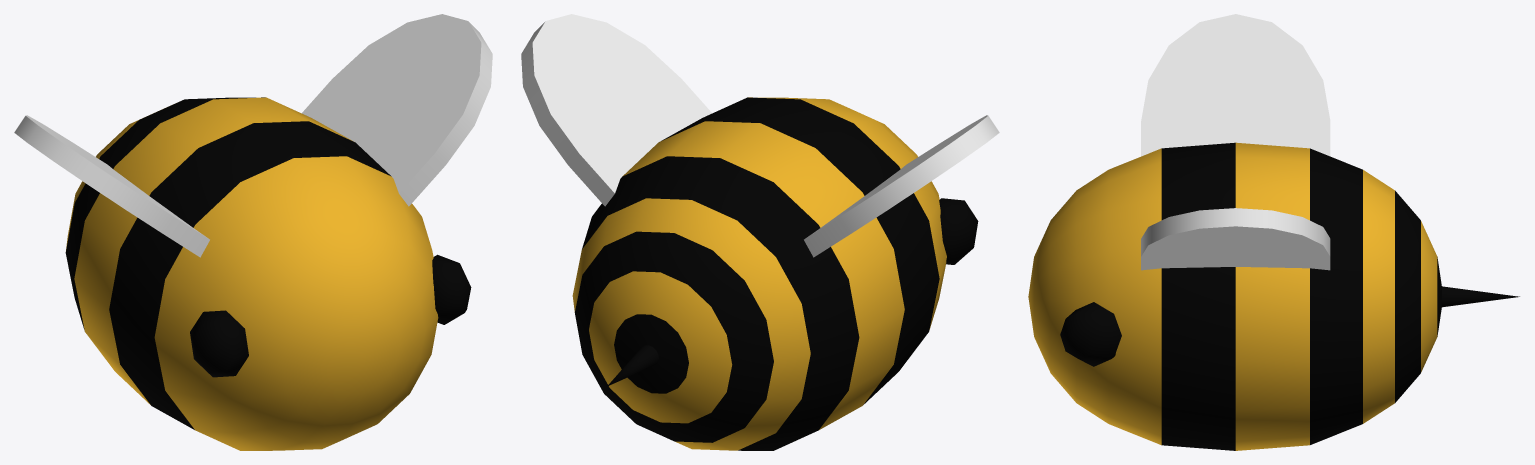
The model's file is BeeModel.fbx.
3 renders of one model, left to right at view 1: azimuth 30°, elevation 25°; view 2: azimuth 150°, elevation 25°; view 3: azimuth 270°, elevation 25°, orthographic. The views are drawn at different scales.
Visible parts, largest first — view 1: BumbleBod, WingL, WingR; view 2: BumbleBod, WingL, WingR; view 3: BumbleBod, WingR, WingL.
Boxes of the visible parts, x1,y1,x2,y2 form: BumbleBod: (65, 97, 471, 450); WingL: (301, 14, 492, 206); WingR: (14, 115, 209, 257); BumbleBod: (572, 97, 978, 450); WingL: (521, 14, 712, 206); WingR: (804, 115, 999, 257); BumbleBod: (1028, 142, 1519, 450); WingR: (1141, 14, 1330, 156); WingL: (1141, 208, 1330, 270).
Bounding box in the file's own units: 409 × 304 × 416.
